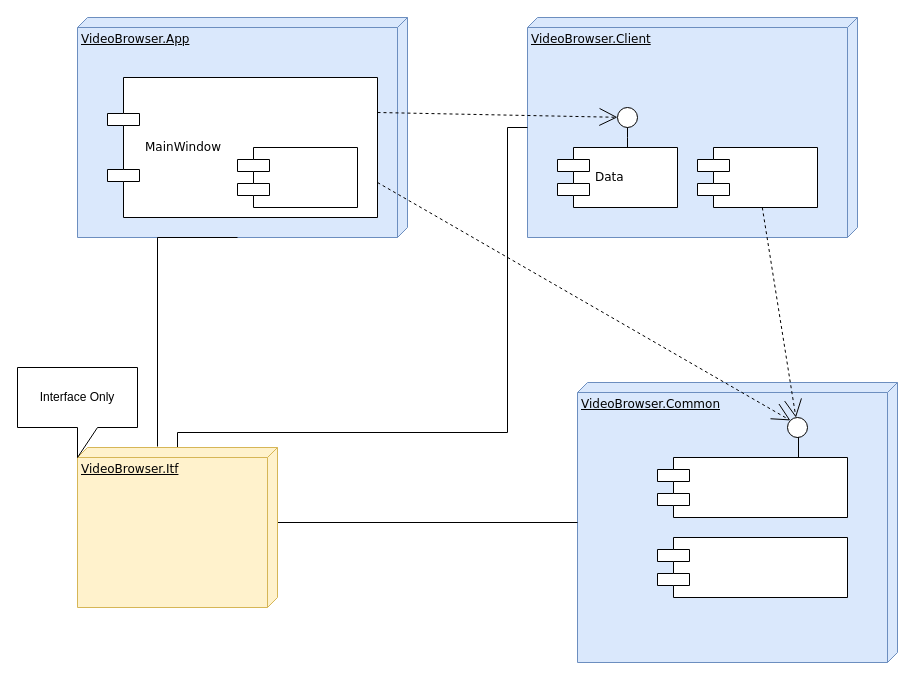
Some shapes in this 915 by 680 pixel diagram are drawn without their labels. The centre of each missing label's shape, as x and y in pixels:
BasicLogger: pixel 752 487
EnvironmentInitializer: pixel 752 567
Http: pixel 757 177
IoC Kernel: pixel 297 177
